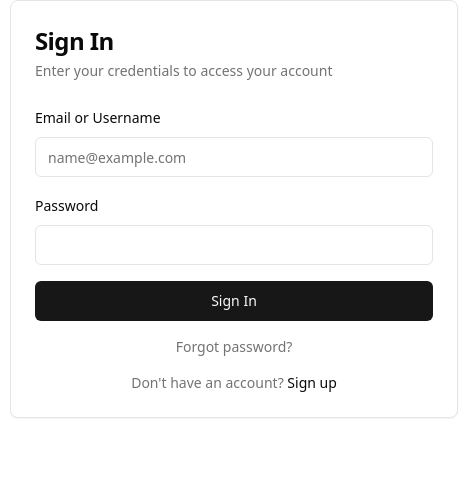
Test case: LoginPage › should show validation error for empty identifier
Click the button "Sign In" at (234, 301), box [35,281,433,321]
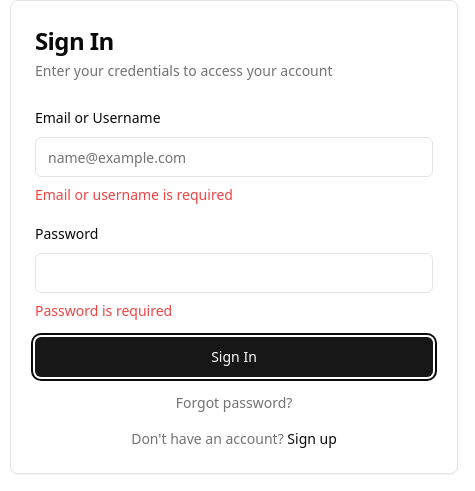
Expected: the text "Email or username is required" is shown, [35,185,233,204]
